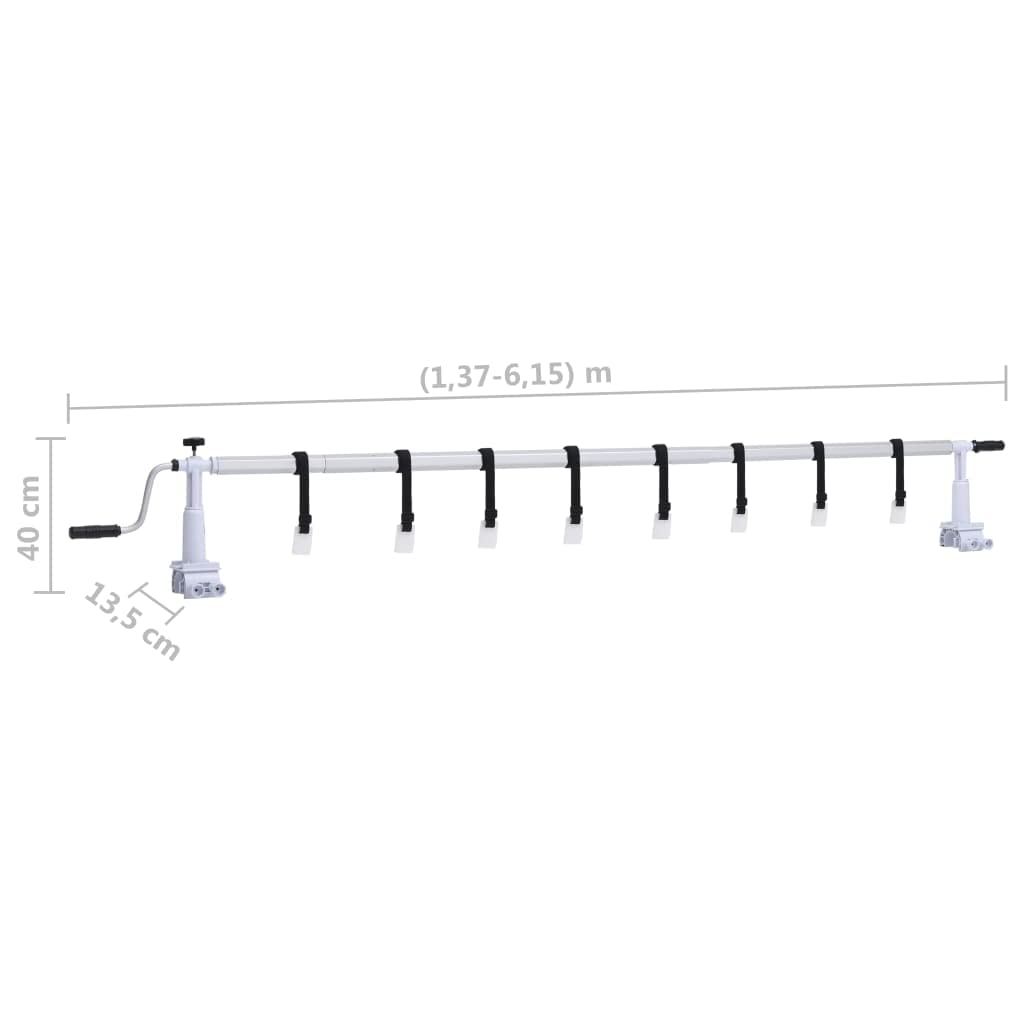iis: (172, 570, 203, 595)
